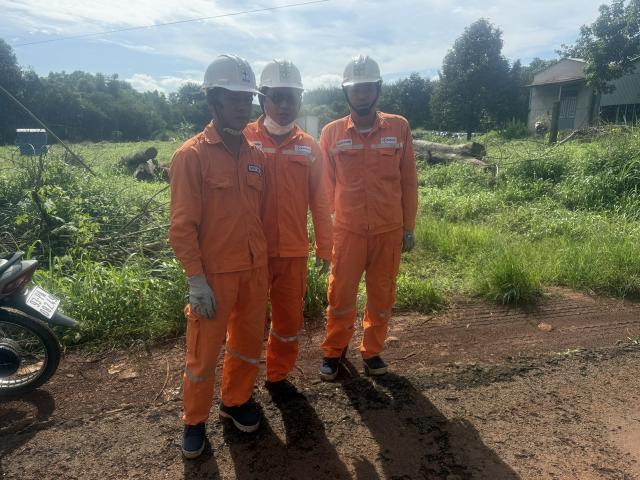gloves: (184, 269, 228, 322), (400, 226, 419, 255), (312, 254, 335, 277)
helmet: (248, 44, 313, 98), (196, 50, 266, 100), (336, 49, 385, 93)
shoes: (217, 386, 272, 436), (264, 370, 306, 408), (179, 415, 212, 462), (319, 344, 347, 382), (360, 348, 393, 377)
